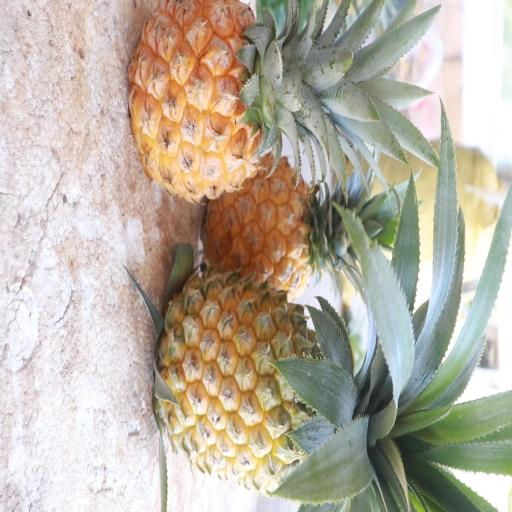Pineapple - v8 v1: (150, 266, 392, 496), (123, 2, 358, 212), (196, 146, 370, 308)
